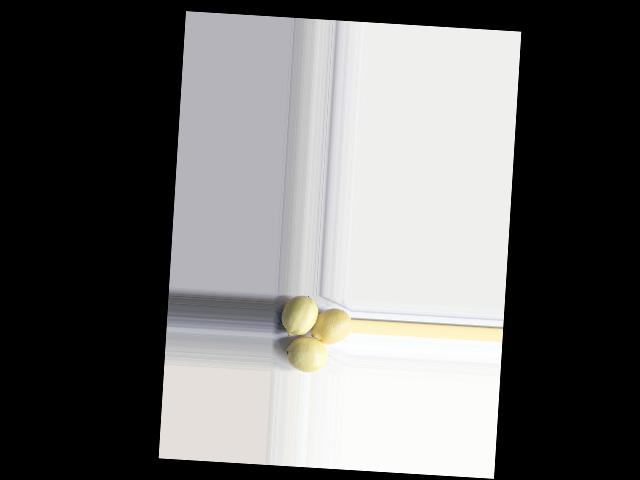lemon: (282, 338, 329, 373)
